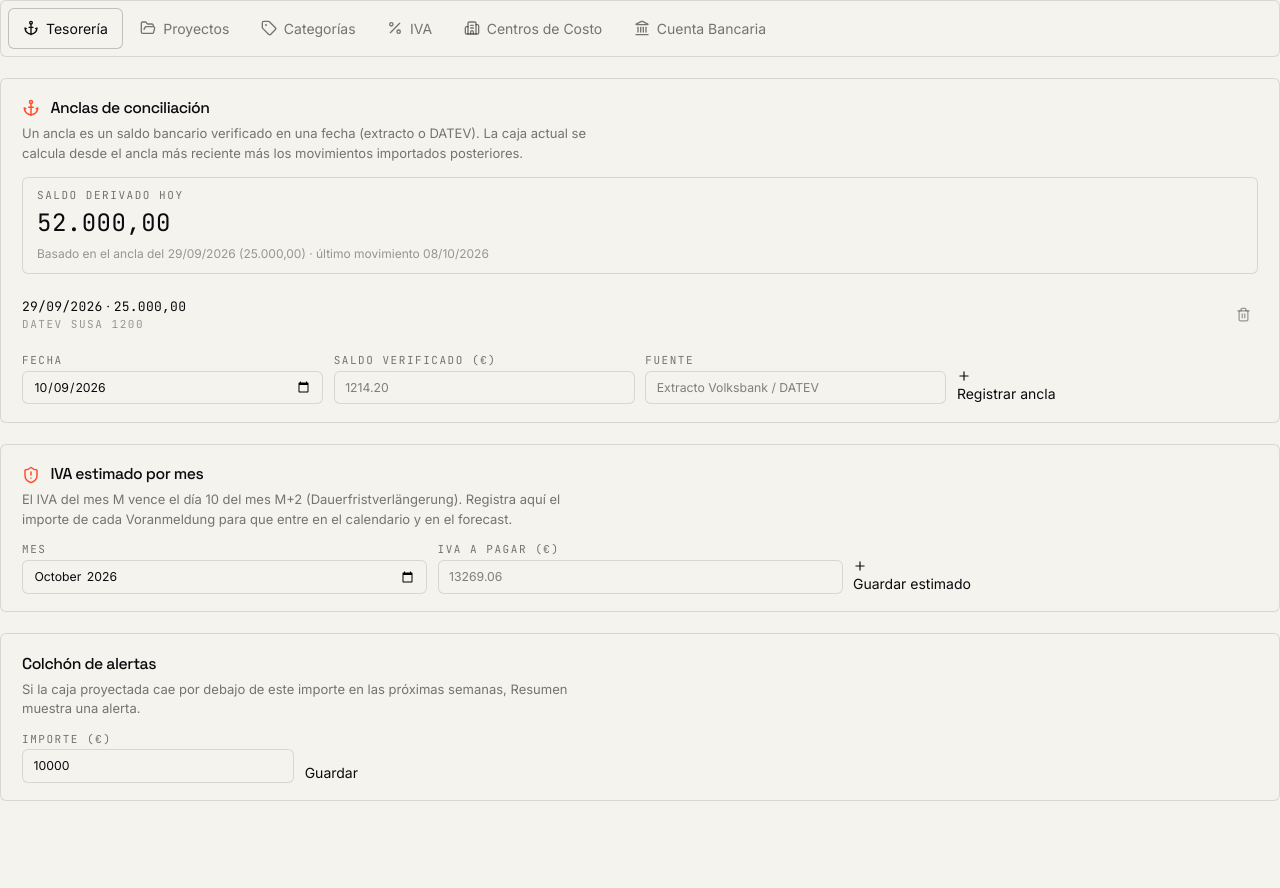
Scenario: ConfiguracionUnified › mounts the VAT rates panel when its tab is selected
The image size is (1280, 888).
Click the button "IVA": (410, 28) [373,9,446,48]
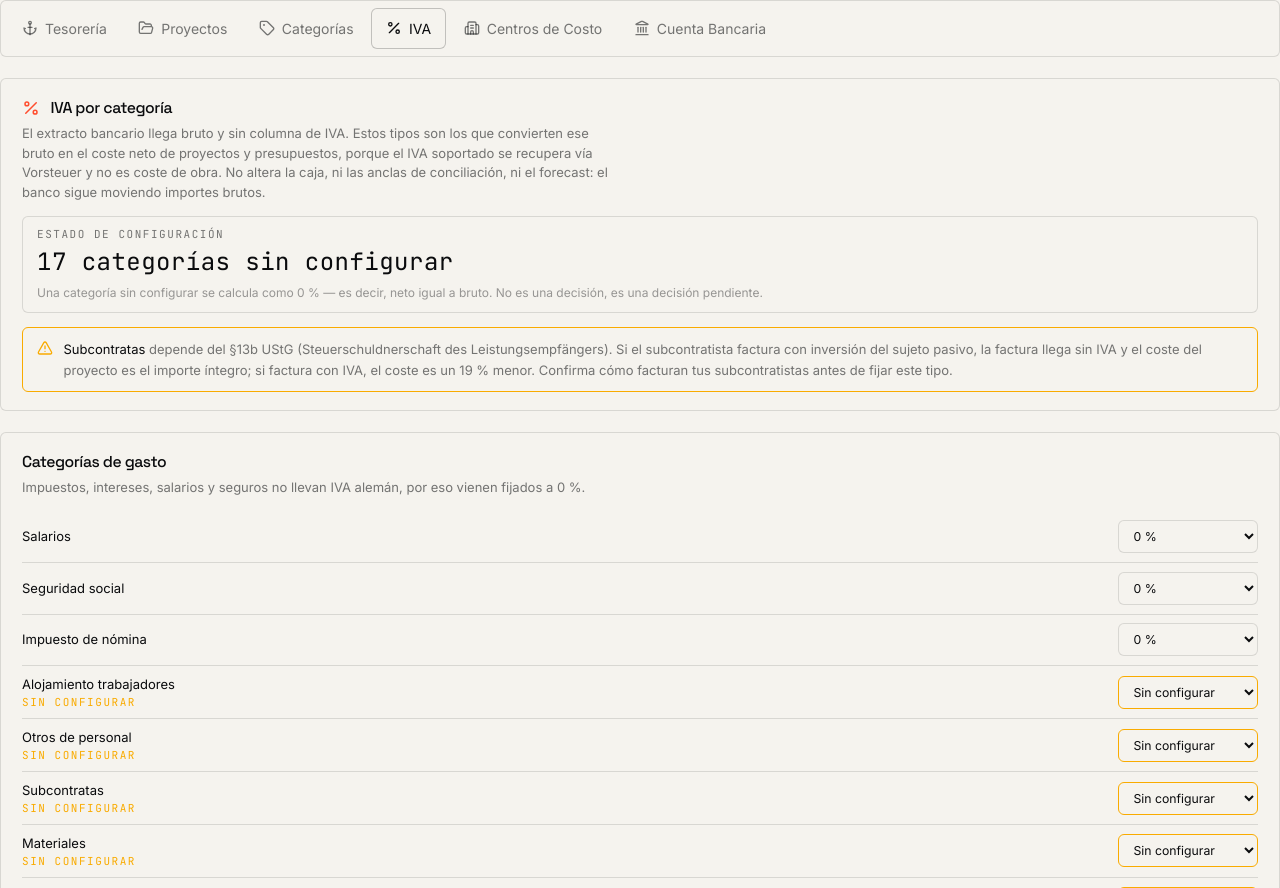
Now the heading "IVA por categoría" is shown, box [50,96,172,120]
